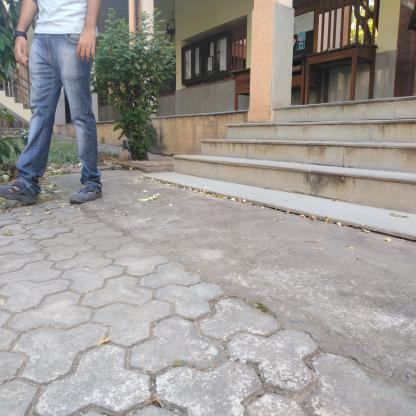stairs: (275, 109, 416, 199)
